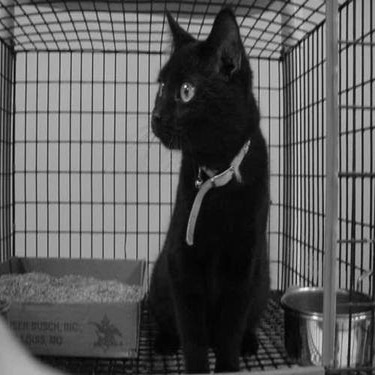cat: (117, 1, 278, 374)
